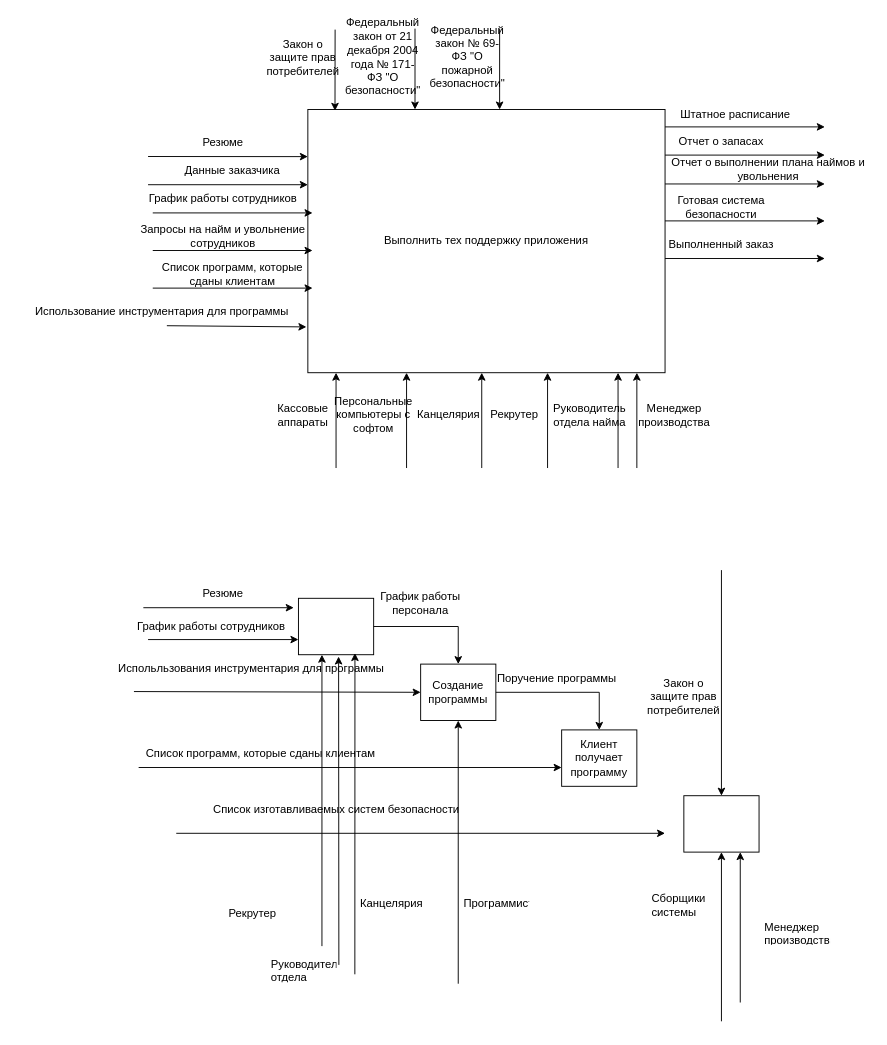
This 887x1045 diagram has some shape labels left out. Each missing label, with the centre of its shape:
Введение штатного расписания: point (336, 626)
Прием заявок от клиента: point (721, 823)
